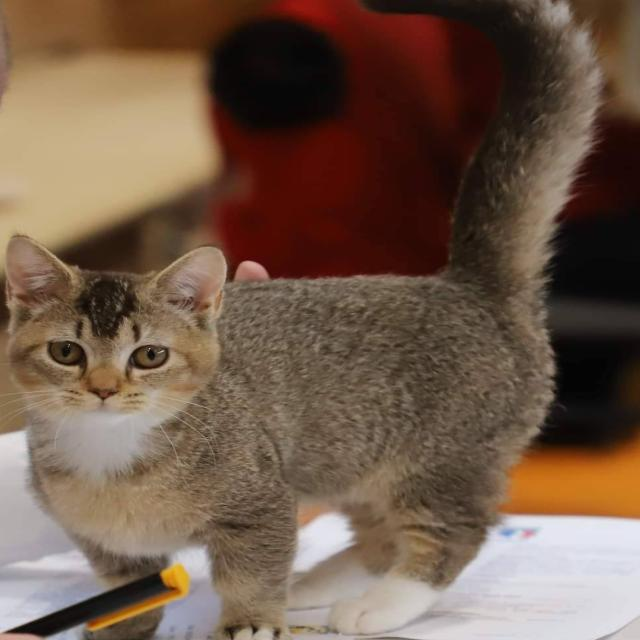Munchkin: (0, 0, 610, 640)
